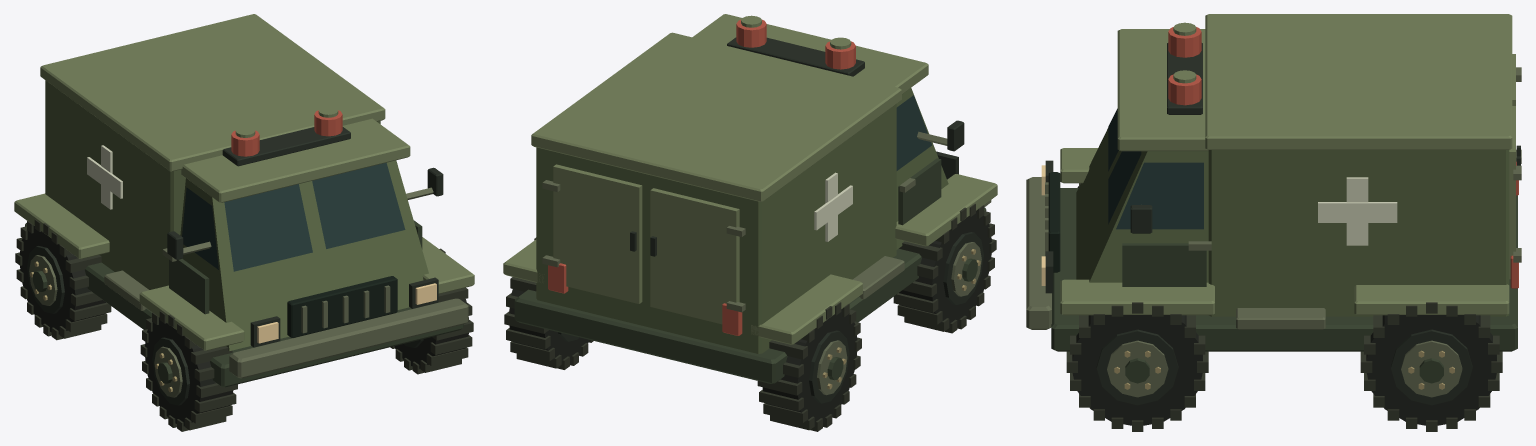
Rendered from heal_cart.obj.
3 views of the same model, side by side, from view 1: azimuth 30°, elevation 25°; view 2: azimuth 150°, elevation 25°; view 3: azimuth 270°, elevation 25° (orthographic). The views are drawn at different scales.
Parts seen in each view (by area): view 1: Body.002, Wheel_LF, Wheel_LB, Wheel_RF; view 2: Body.002, Wheel_LB, Wheel_LF, Wheel_RB; view 3: Body.002, Wheel_RB, Wheel_RF.
Boxes of the visible parts, box(x1,y1,x2,y2) form: Body.002: box(14, 14, 474, 387); Wheel_LF: box(140, 311, 237, 431); Wheel_LB: box(15, 219, 111, 340); Wheel_RF: box(390, 248, 473, 374); Body.002: box(503, 14, 997, 383); Wheel_LB: box(757, 302, 861, 431); Wheel_LF: box(893, 203, 996, 333); Wheel_RB: box(504, 237, 593, 369); Body.002: box(1026, 14, 1521, 351); Wheel_RB: box(1360, 302, 1502, 431); Wheel_RF: box(1066, 302, 1208, 431).
Size of the model in its own units: 3.05 by 2.61 by 3.87.
1 material, 1 textured.
